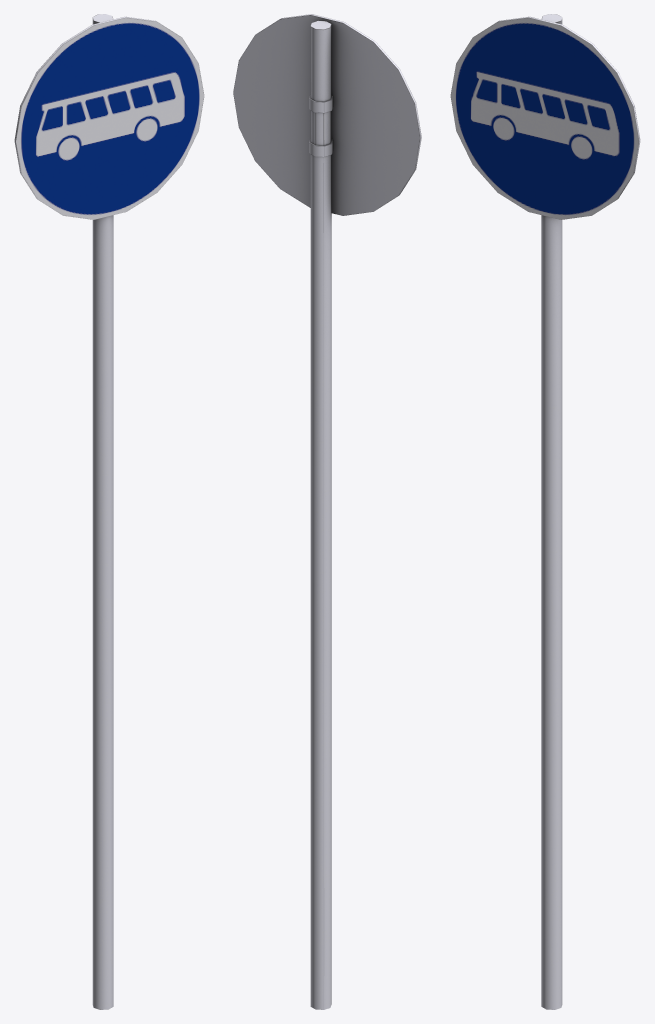
Rendered from sign#3.FBX.
3 renders of one model, left to right at view 1: azimuth 30°, elevation 25°; view 2: azimuth 150°, elevation 25°; view 3: azimuth 330°, elevation 25°, orthographic.
Visible parts, largest first — view 1: Cylinder001; view 2: Cylinder001; view 3: Cylinder001.
Part boxes in pixels (left/top/right/bottom): Cylinder001: left=14, top=14, right=204, bottom=1009; Cylinder001: left=233, top=14, right=421, bottom=1009; Cylinder001: left=450, top=14, right=640, bottom=1009.
Bounding box in the file's own units: 15.75 × 78.91 × 1.94.
